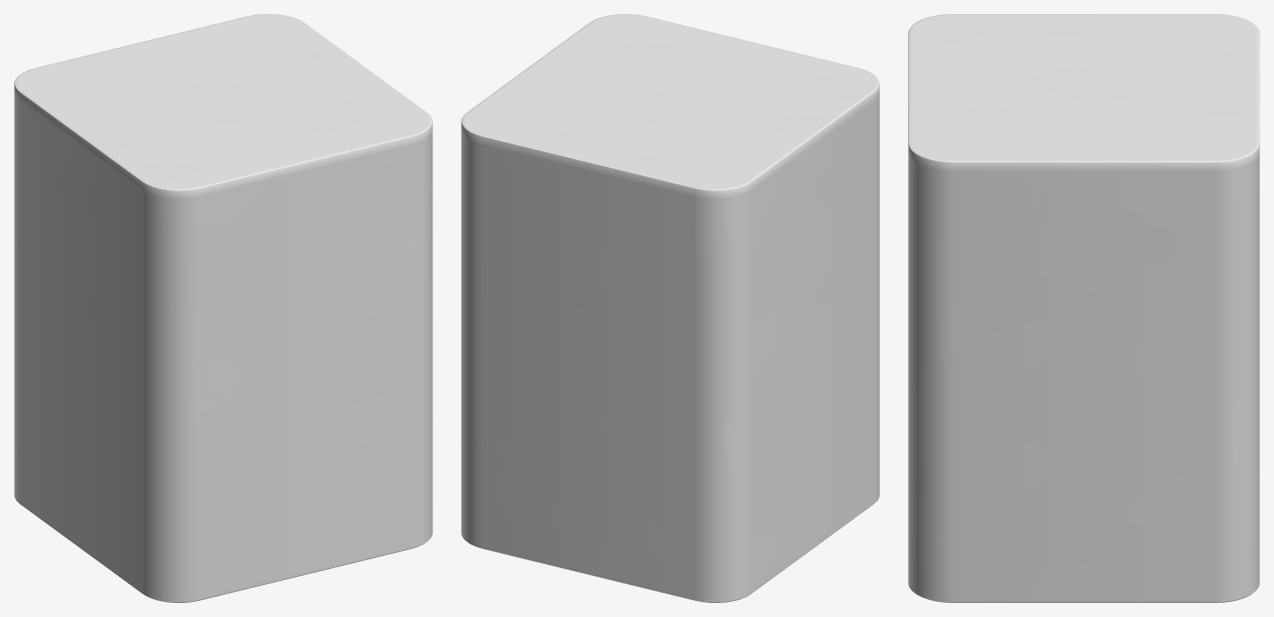
The model's file is picket_m.dae.
3 renders of one model, left to right at view 1: azimuth 30°, elevation 25°; view 2: azimuth 150°, elevation 25°; view 3: azimuth 270°, elevation 25°, orthographic. The views are drawn at different scales.
Visible parts, largest first — view 1: picket_m; view 2: picket_m; view 3: picket_m.
Part boxes in pixels (x1,y1,x2,y2): picket_m: (14,14,432,602); picket_m: (461,14,879,602); picket_m: (908,14,1259,602).
Size of the model in its own units: 0.397 by 0.55 by 0.397.
